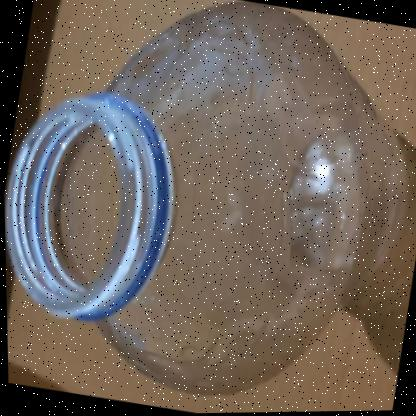open bottle: (1, 1, 386, 416)
